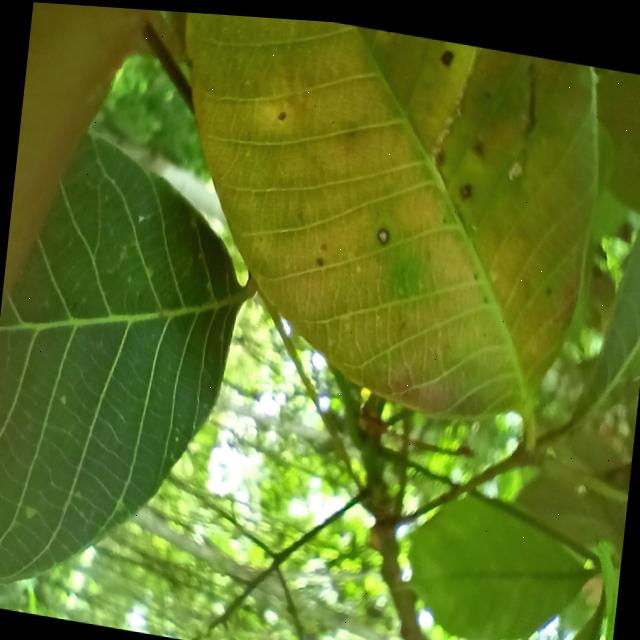Colletotrichum: (439, 42, 453, 60), (375, 222, 389, 238), (458, 177, 470, 192)
